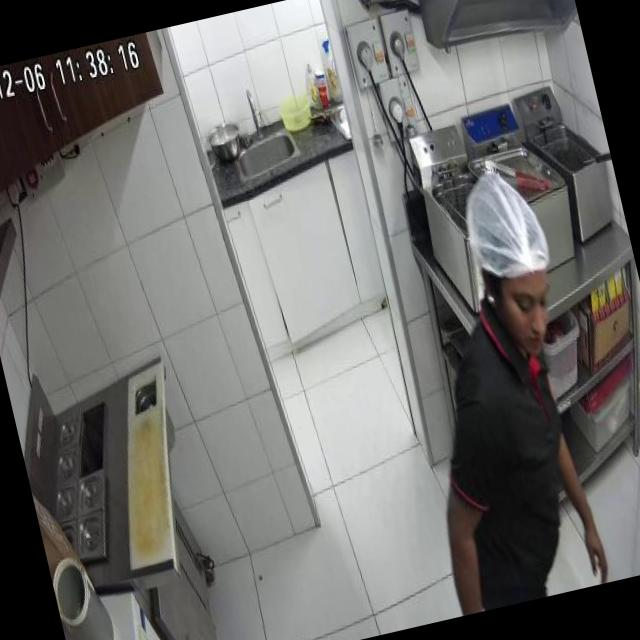hairnet: (450, 162, 552, 282)
